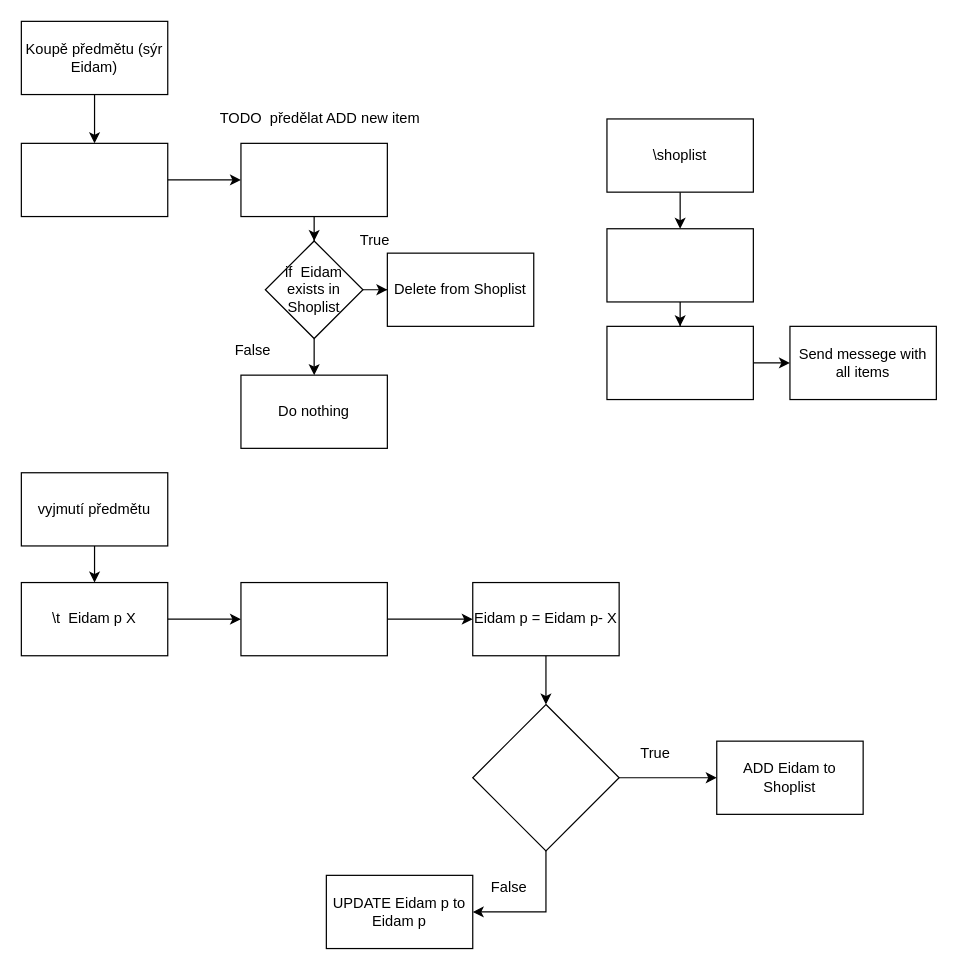
Some shapes in this 958 by 970 pixel diagram are drawn without their labels. The centre of each missing label's shape, as x and y in pixels:
\koupě Eidam p 10: the point at 94,179
Access Databáze Shoplist: the point at 679,265
if Eidam p == 0: the point at 545,777
nový řádek v databázy (insert X, XXX): the point at 313,179
Otevření databáze pro Eidam a získání p: the point at 313,618
Take All items out: the point at 679,362
